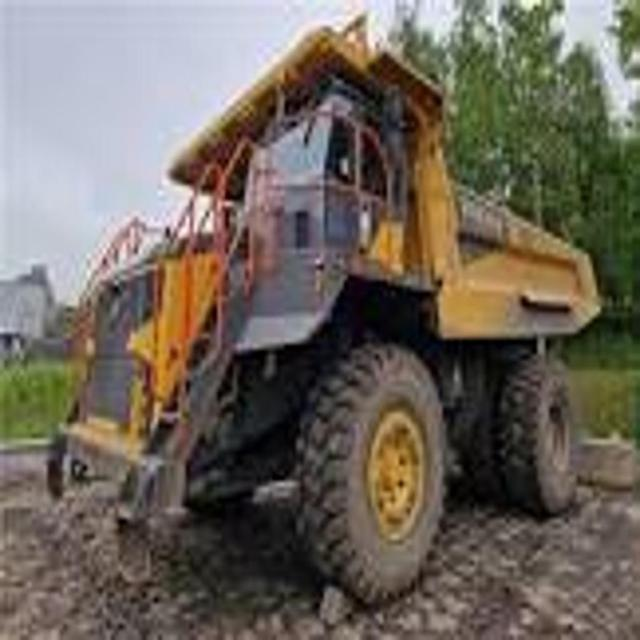dump_truck: (60, 20, 596, 603)
